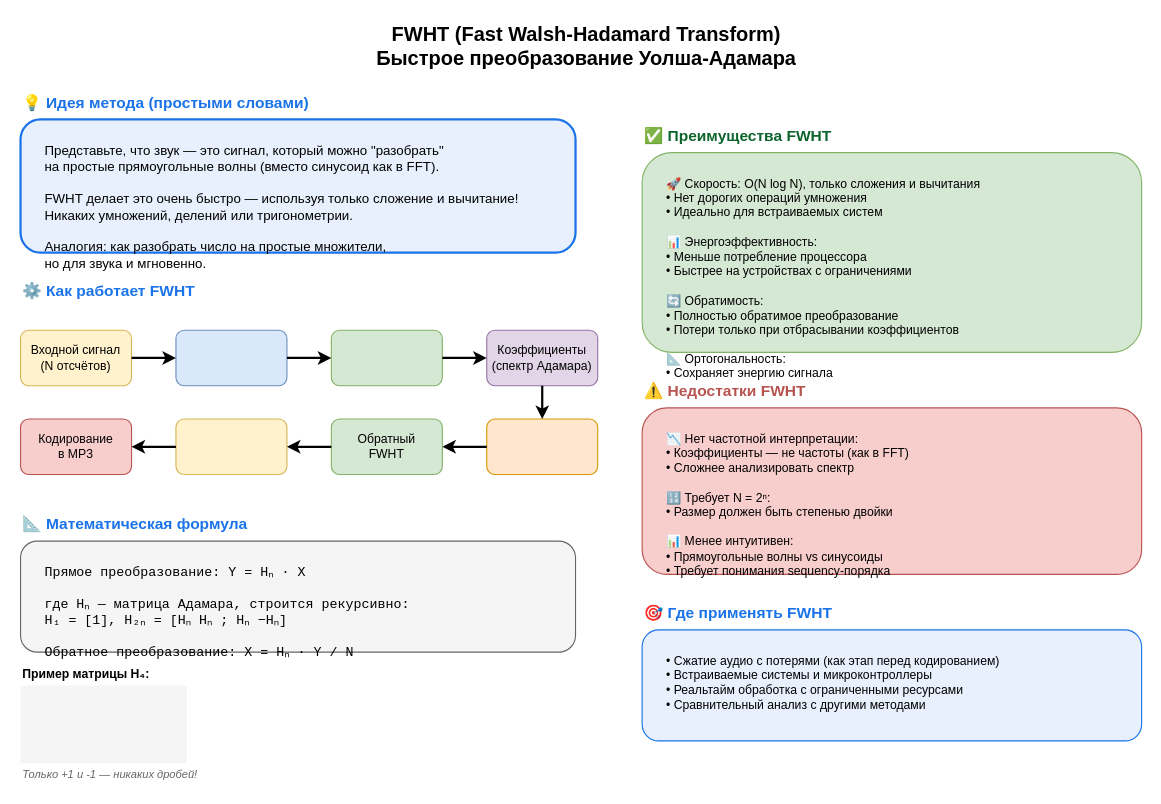
This 1161x804 diagram has some shape labels left out. Each missing label, with the box of its shape:
FWHT O(N log N) только + и −: (330, 329, 442, 386)
H₄ = [ 1 1 1 1 ] [ 1 -1 1 -1 ] [ 1 1 -1 -1 ] [ 1 -1 -1 1 ]: (20, 685, 186, 763)
Восстановленный сигнал: (175, 418, 287, 475)
Отбор (energy/lowpass): (486, 418, 598, 475)
Умножение на окно Ханна: (175, 329, 287, 386)
